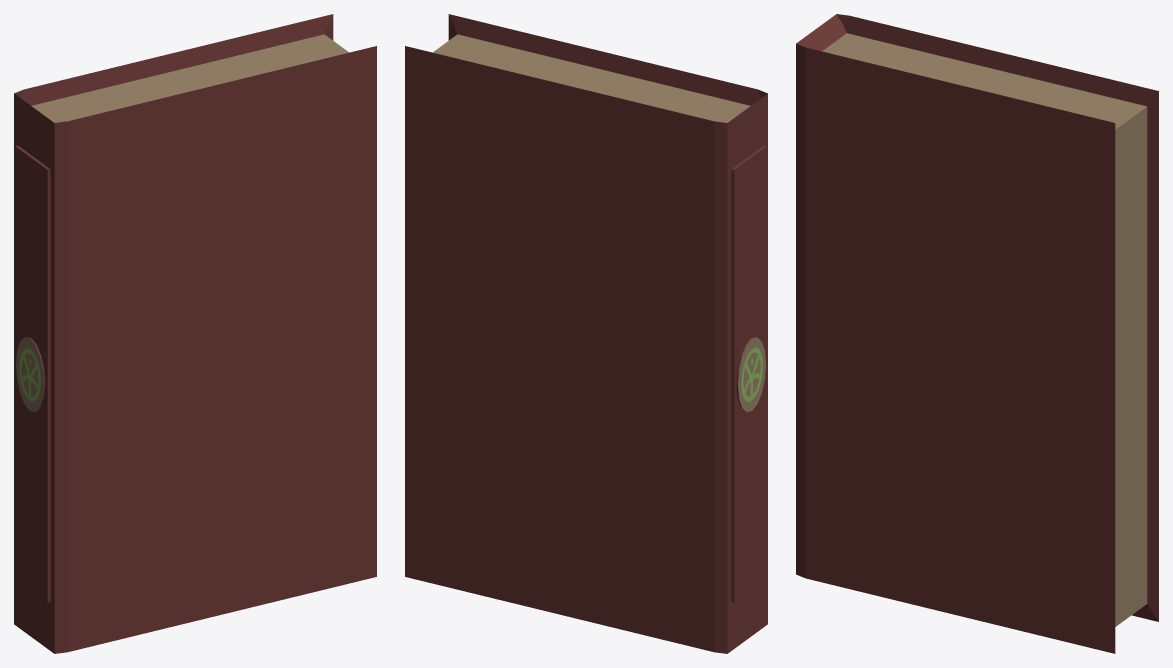
The model's file is BookRune.fbx.
The picture shows the model from 3 angles, left to right: view 1: azimuth 30°, elevation 25°; view 2: azimuth 150°, elevation 25°; view 3: azimuth 330°, elevation 25°; orthographic projection.
Visible parts, largest first — view 1: BookCover, Insert, SymbolFace; view 2: BookCover, Insert, SymbolFace; view 3: BookCover, Insert.
Part boxes in pixels (x1,y1,x2,y2): BookCover: (14, 14, 376, 653); Insert: (31, 34, 348, 122); SymbolFace: (16, 337, 43, 412); BookCover: (405, 14, 767, 653); Insert: (433, 34, 750, 122); SymbolFace: (738, 337, 765, 412); BookCover: (796, 14, 1158, 653); Insert: (822, 33, 1147, 626).
Bounding box in the file's own units: 321 × 500 × 74.49.
3 materials, 1 textured.
